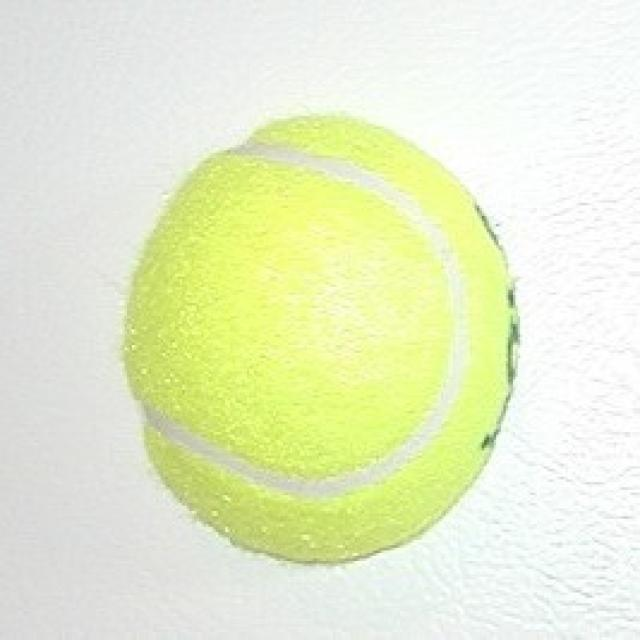Tennis Ball: (120, 113, 520, 569)
